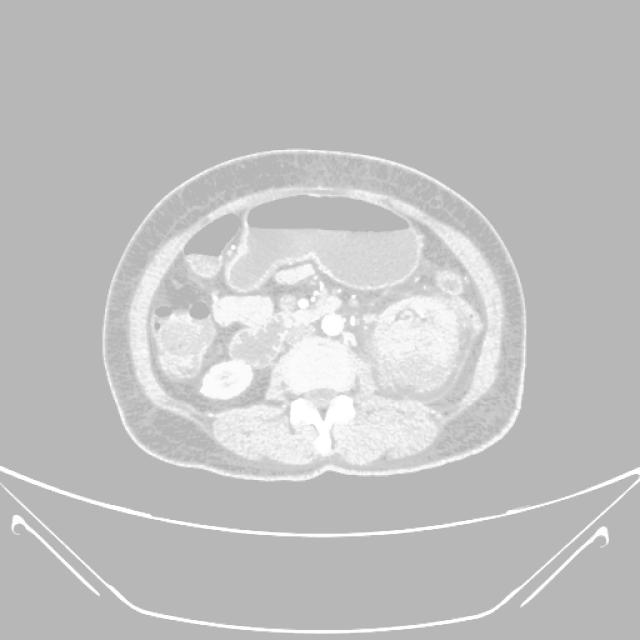TUMOR: (125, 282, 586, 366)
